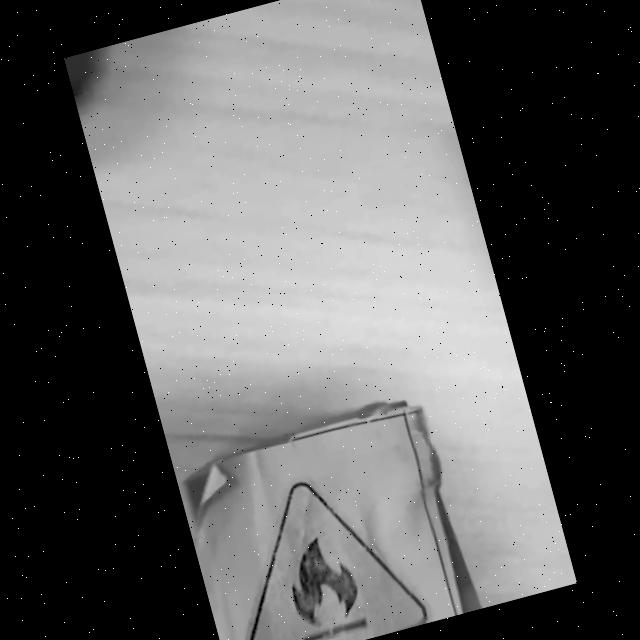Fire: (244, 483, 427, 640)
